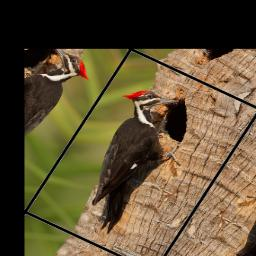Woodpecker: (48, 79, 213, 245)
